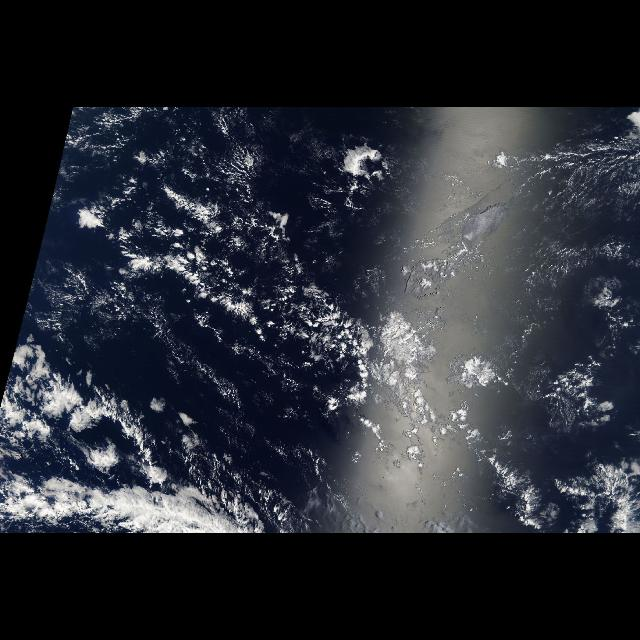Gravel: (63, 157, 527, 491)
